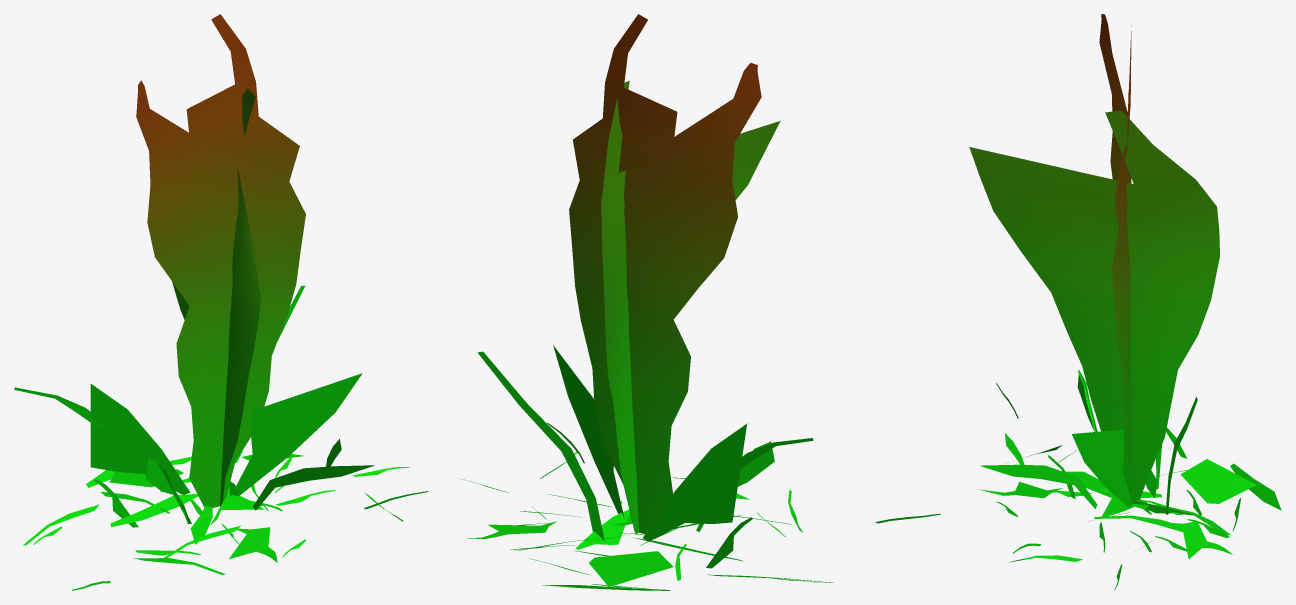
Rendered from Dead Shrubs_LOD0_Var8_vdknafgha.fbx.
The picture shows the model from 3 angles, left to right: view 1: azimuth 30°, elevation 25°; view 2: azimuth 150°, elevation 25°; view 3: azimuth 270°, elevation 25°; orthographic projection. The views are drawn at different scales.
Visible parts, largest first — view 1: _2ru0_Var8_LOD0; view 2: _2ru0_Var8_LOD0; view 3: _2ru0_Var8_LOD0.
Boxes of the visible parts, bbox=[...] form: _2ru0_Var8_LOD0: bbox=[14, 14, 428, 590]; _2ru0_Var8_LOD0: bbox=[459, 14, 940, 590]; _2ru0_Var8_LOD0: bbox=[969, 14, 1281, 590].
Size of the model in its own units: 28.1 by 33.82 by 19.55.
